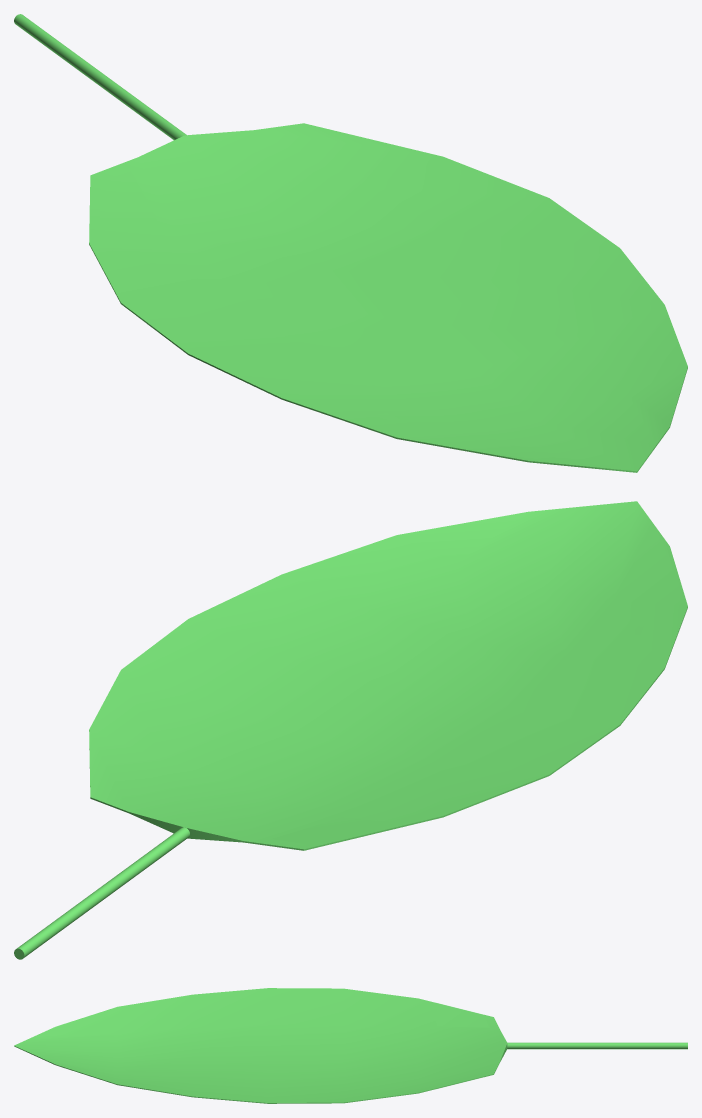
The model's file is Leaf_Flat.fbx.
3 views of the same model, one above another, from view 1: azimuth 30°, elevation 25°; view 2: azimuth 150°, elevation 25°; view 3: azimuth 270°, elevation 25° (orthographic). The views are drawn at different scales.
Visible parts, largest first — view 1: Leaf_Flat1_Tail1; view 2: Leaf_Flat1_Tail1; view 3: Leaf_Flat1_Tail1.
Boxes of the visible parts, x1,y1,x2,y2 form: Leaf_Flat1_Tail1: (14,14,687,472); Leaf_Flat1_Tail1: (14,501,687,959); Leaf_Flat1_Tail1: (14,988,687,1103).
Size of the model in its own units: 301 by 17.46 by 746.
